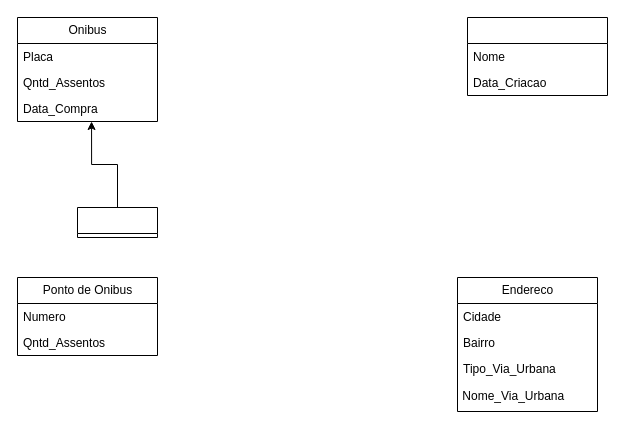
Image size: 625x429. Some labels were removed from this diagram. Each missing label, with the box of its shape:
Cliente: (76, 206, 158, 238)
Linha: (466, 16, 608, 96)
